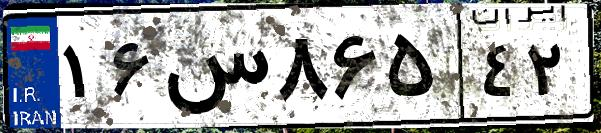1: (57, 26, 110, 100)
2: (525, 38, 570, 115)
4: (475, 38, 525, 113)
5: (385, 28, 445, 110)
6: (330, 28, 385, 110), (110, 28, 158, 98)
8: (270, 28, 330, 110)
س: (158, 20, 270, 120)
